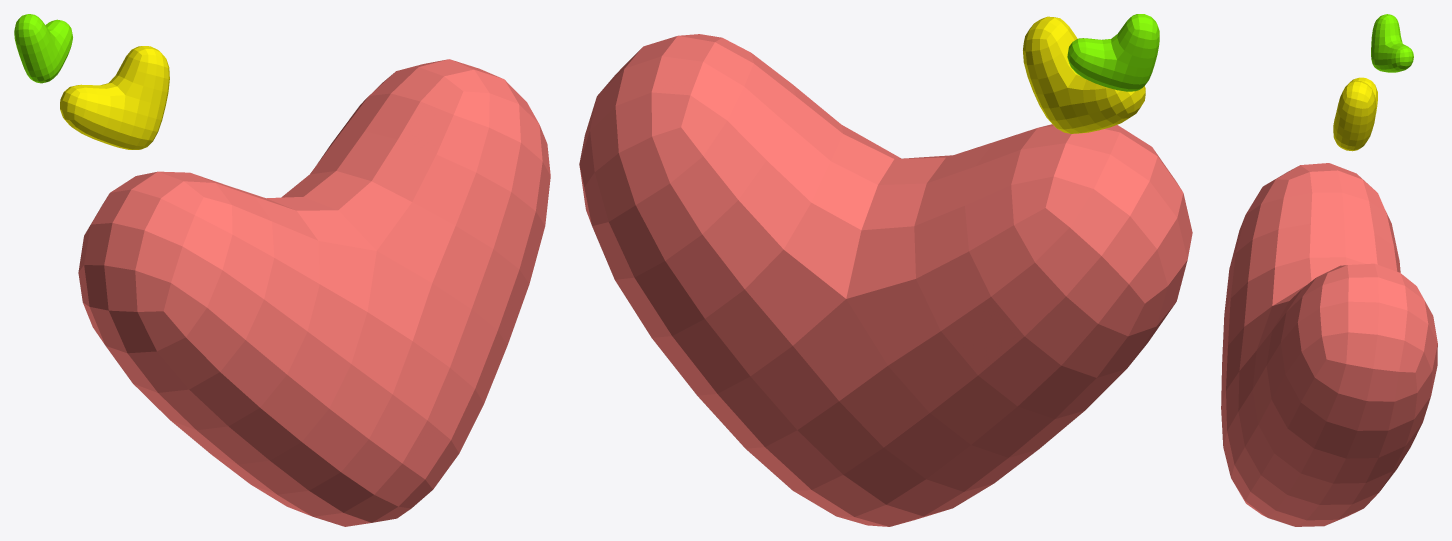
Rendered from HeartsCompressed.glb.
3 views of the same model, side by side, from view 1: azimuth 30°, elevation 25°; view 2: azimuth 150°, elevation 25°; view 3: azimuth 270°, elevation 25° (orthographic). The views are drawn at different scales.
Visible parts, largest first — view 1: Heart, SmallHeart01, SmallHeart02; view 2: Heart, SmallHeart01, SmallHeart02; view 3: Heart, SmallHeart01, SmallHeart02.
Part boxes in pixels (x1,y1,x2,y2): Heart: (78, 59, 550, 526); SmallHeart01: (60, 46, 169, 149); SmallHeart02: (14, 14, 72, 83); Heart: (579, 34, 1192, 526); SmallHeart01: (1023, 16, 1145, 133); SmallHeart02: (1067, 14, 1159, 91); Heart: (1221, 163, 1437, 526); SmallHeart01: (1333, 77, 1377, 151); SmallHeart02: (1371, 14, 1413, 72).
Size of the model in its own units: 4.21 by 4.28 by 2.07.
